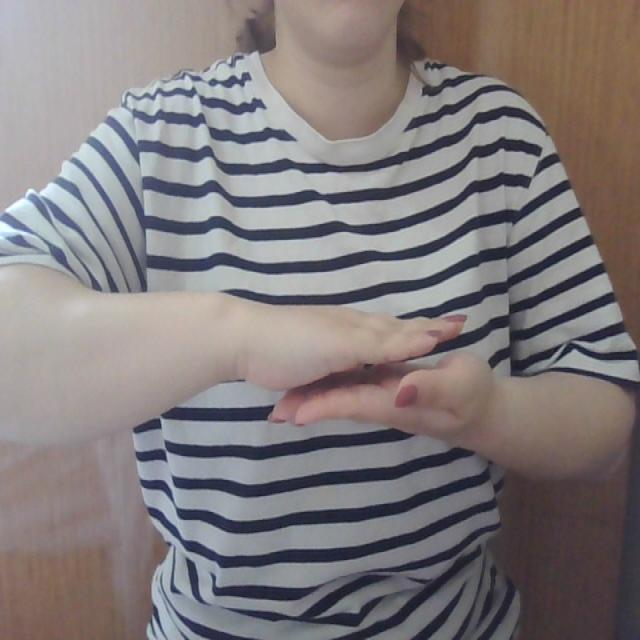Arkadas: (170, 288, 564, 446)
